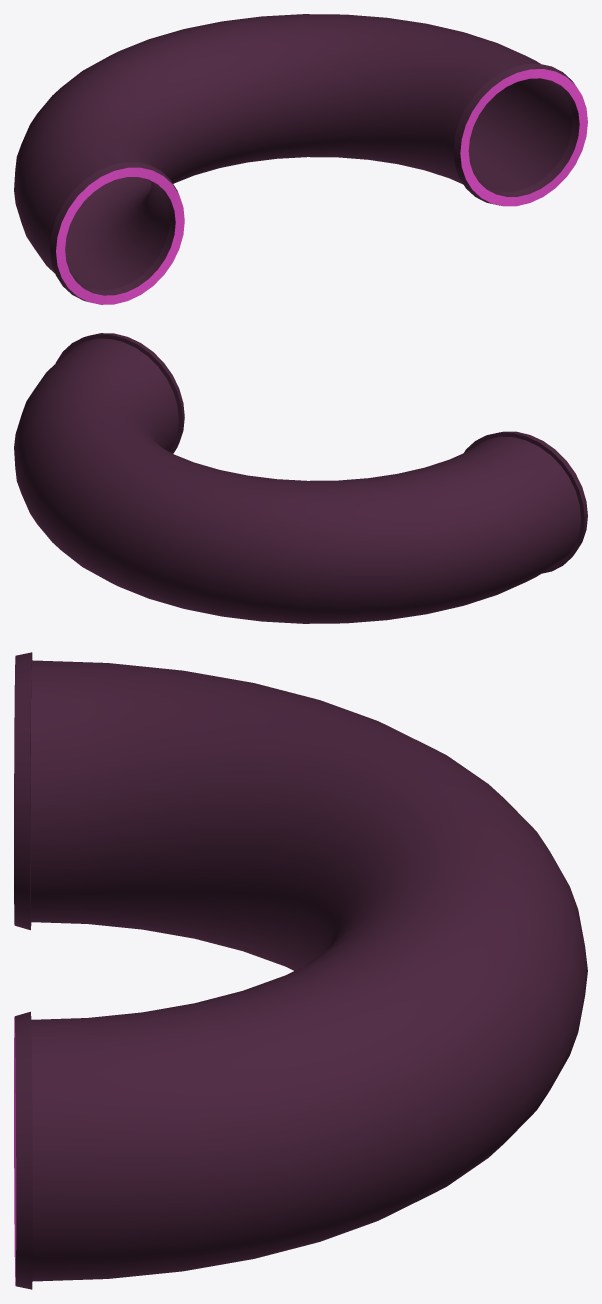
The model's file is tunel.obj.
The picture shows the model from 3 angles, top to bottom: view 1: azimuth 30°, elevation 25°; view 2: azimuth 150°, elevation 25°; view 3: azimuth 270°, elevation 25°; orthographic projection. The views are drawn at different scales.
Parts seen in each view (by area): view 1: polySurface1 pTorus1; view 2: polySurface1 pTorus1; view 3: polySurface1 pTorus1.
Boxes of the visible parts, box(x1,y1,x2,y2) form: polySurface1 pTorus1: box(14, 14, 587, 304); polySurface1 pTorus1: box(14, 333, 587, 623); polySurface1 pTorus1: box(14, 652, 587, 1289).
Bounding box in the file's own units: 110 × 27.14 × 56.11.
